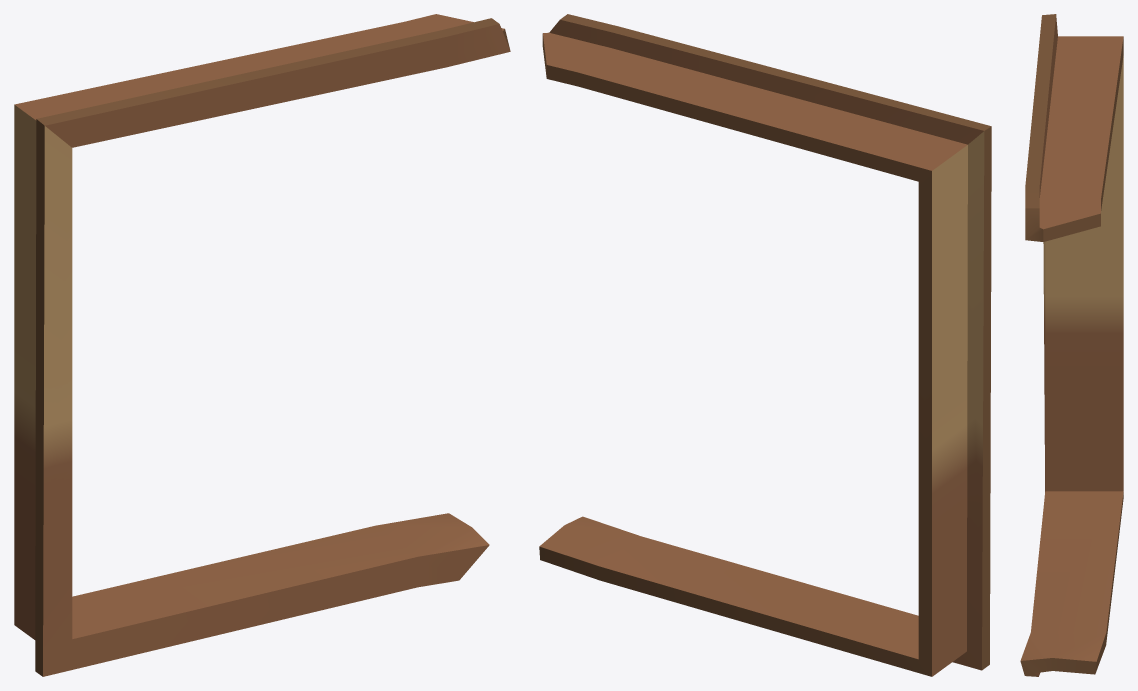
The model's file is DBK_WinWide_Trim_A_Side.fbx.
The picture shows the model from 3 angles, left to right: view 1: azimuth 30°, elevation 25°; view 2: azimuth 150°, elevation 25°; view 3: azimuth 270°, elevation 25°; orthographic projection. The views are drawn at different scales.
Parts seen in each view (by area): view 1: DBK_WinWide_Trim_A_Side; view 2: DBK_WinWide_Trim_A_Side; view 3: DBK_WinWide_Trim_A_Side.
Boxes of the visible parts, x1,y1,x2,y2 form: DBK_WinWide_Trim_A_Side: [14, 14, 510, 676]; DBK_WinWide_Trim_A_Side: [539, 14, 991, 676]; DBK_WinWide_Trim_A_Side: [1020, 14, 1123, 676].
Bounding box in the file's own units: 117 × 134 × 25.48.
